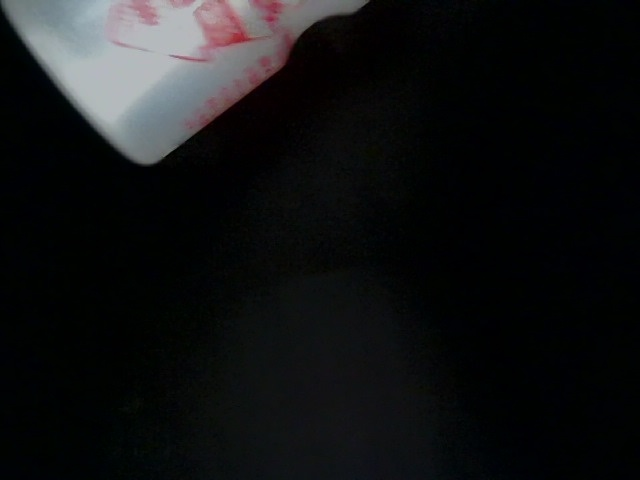CYLJ: (212, 24, 323, 124)
